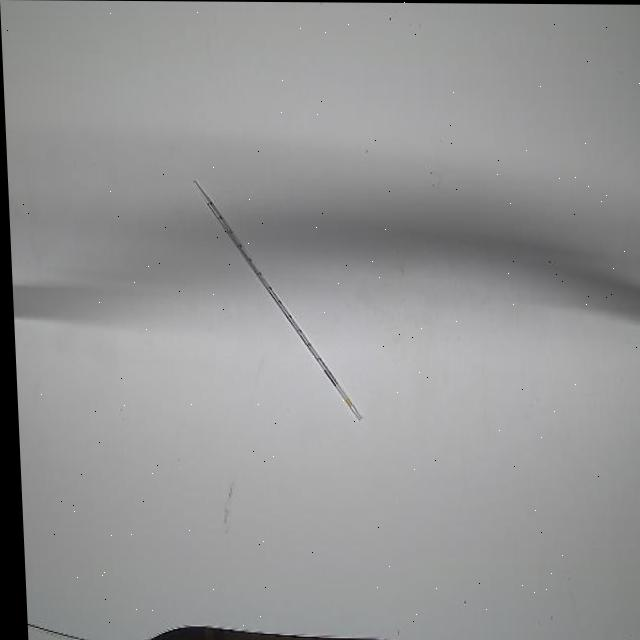Serelogical Pipet 1 mL: (191, 176, 364, 428)
